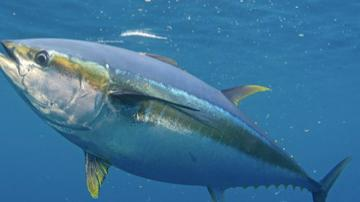Scombridae -Tunas-: (0, 31, 351, 202)
